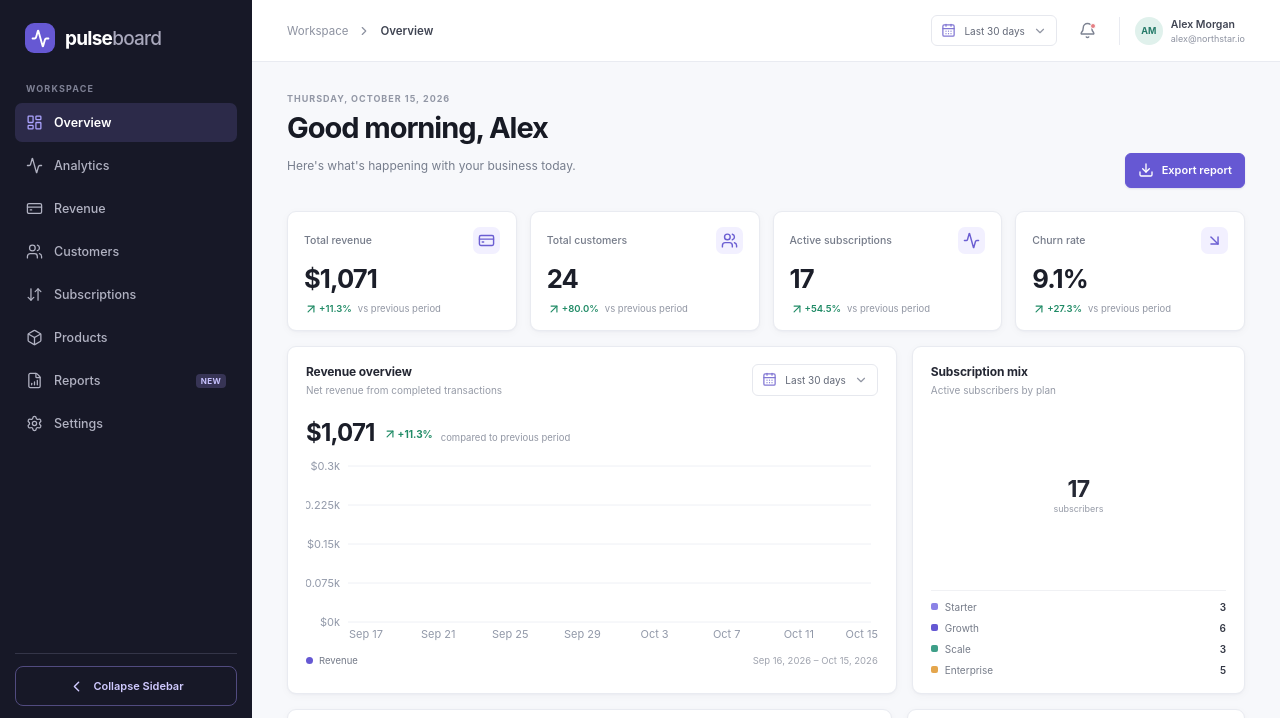
Test case: PulseBoard application › navigates between workspace pages without reloading
Step 1. Click the link "Revenue" → (66, 208), box [26, 200, 106, 217]
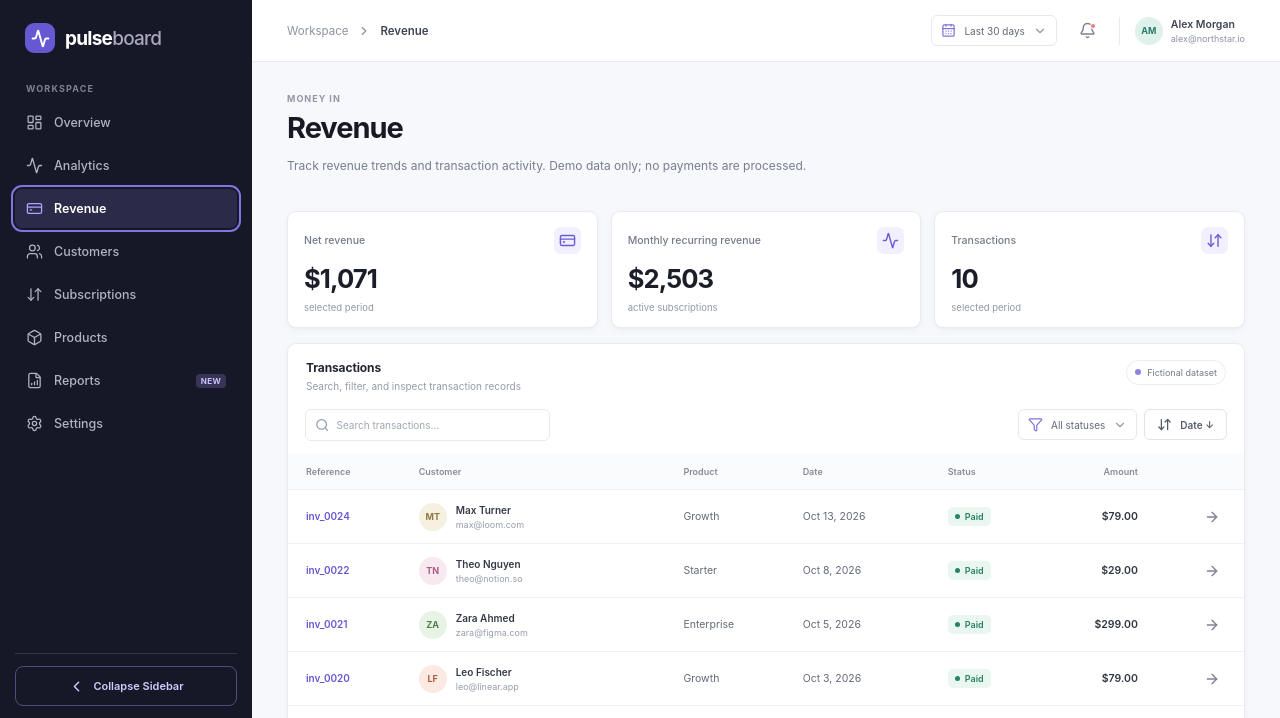
Expected: the heading "Revenue" is shown, [287, 110, 403, 145]
Expected: the text "no payments are processed" is shown, [287, 158, 806, 173]
